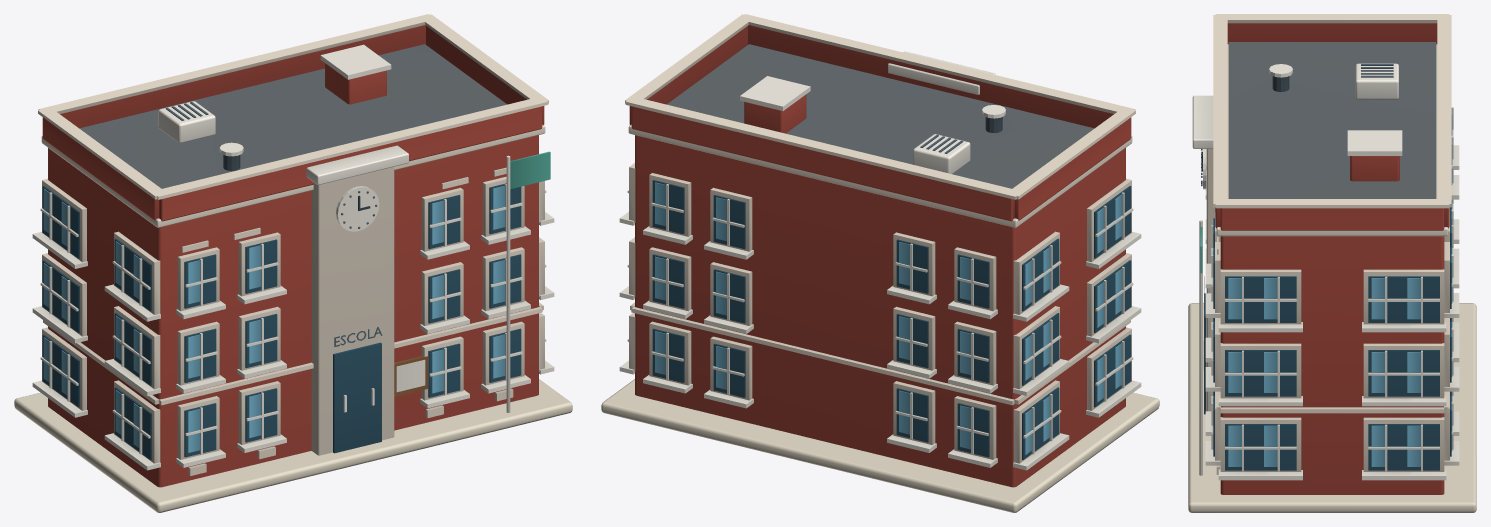
File: school.glb
The picture shows the model from 3 angles, left to right: view 1: azimuth 30°, elevation 25°; view 2: azimuth 150°, elevation 25°; view 3: azimuth 270°, elevation 25°; orthographic projection.
Visible parts, largest first — view 1: brick school, recess surround, mullion, recessed roof, blue glazing, school paving, sky reflection, school pennant, vent grille; view 2: brick school, recess surround, recessed roof, mullion, blue glazing, school paving, sky reflection; view 3: brick school, recessed roof, recess surround, mullion, blue glazing, school paving, sky reflection, vent grille.
Boxes of the visible parts, box(x1,y1,x2,y2) form: brick school: box(42, 25, 544, 487); recess surround: box(38, 14, 548, 476); mullion: box(32, 44, 554, 470); recessed roof: box(79, 44, 506, 188); blue glazing: box(42, 183, 521, 459); school paving: box(14, 379, 572, 512); sky reflection: box(43, 185, 505, 452); school pennant: box(510, 151, 550, 189); vent grille: box(165, 102, 382, 346); brick school: box(629, 25, 1131, 487); recess surround: box(625, 14, 1135, 463); recessed roof: box(667, 44, 1094, 188); mullion: box(619, 51, 1141, 470); blue glazing: box(652, 180, 1131, 459); school paving: box(601, 379, 1159, 512); sky reflection: box(655, 182, 1122, 454); brick school: box(1215, 23, 1449, 494); recessed roof: box(1228, 42, 1436, 198); recess surround: box(1206, 14, 1451, 474); mullion: box(1192, 63, 1459, 480); blue glazing: box(1204, 207, 1451, 470); school paving: box(1188, 303, 1476, 512); sky reflection: box(1212, 109, 1452, 466); vent grille: box(1201, 64, 1393, 308).
Bounding box in the file's own units: 4.8 × 3.48 × 2.9.
